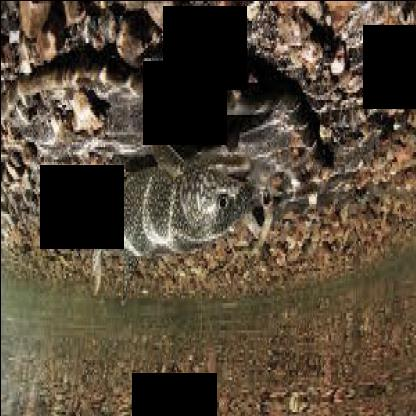fish: (84, 144, 256, 302)
